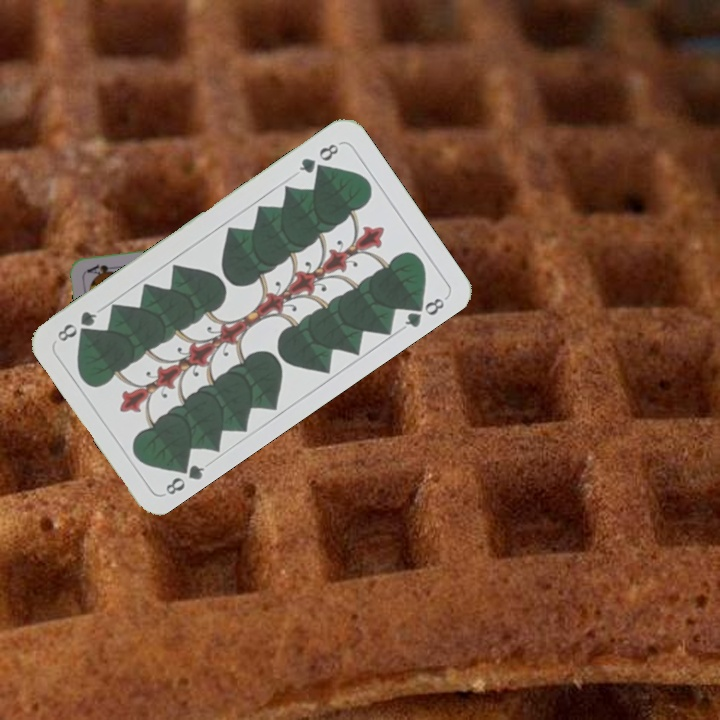G8: (161, 456, 208, 498), (294, 139, 342, 176)
